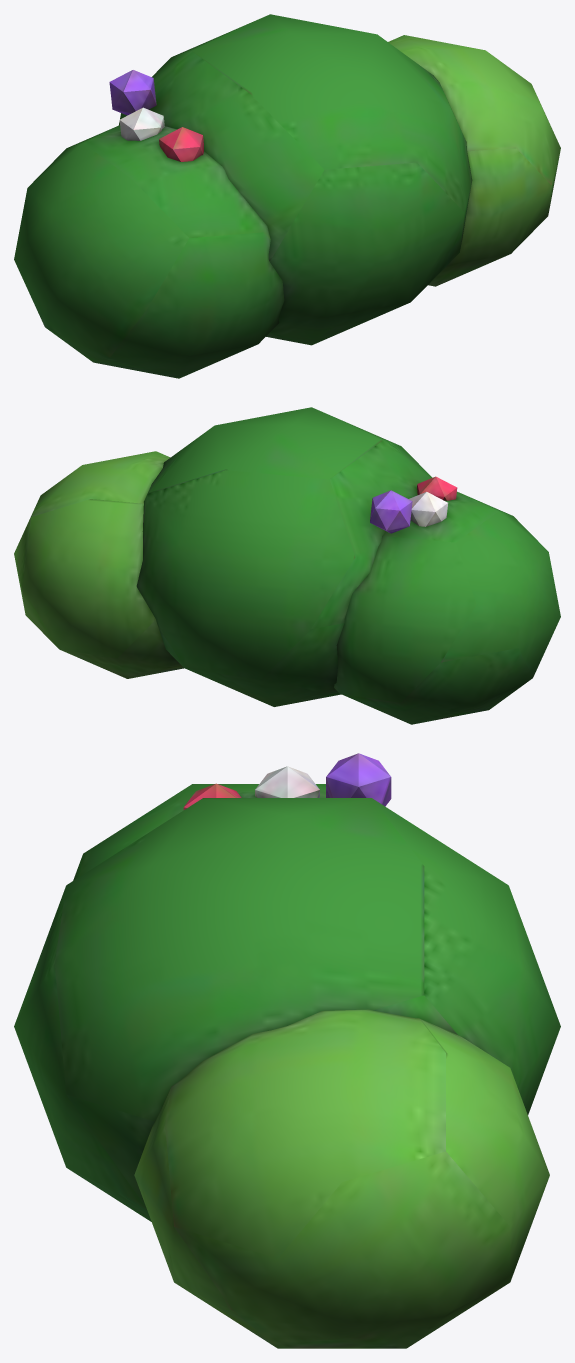
The model's file is arbusto.glb.
The picture shows the model from 3 angles, top to bottom: view 1: azimuth 30°, elevation 25°; view 2: azimuth 150°, elevation 25°; view 3: azimuth 270°, elevation 25°; orthographic projection. The views are drawn at different scales.
Visible parts, largest first — view 1: arbusto; view 2: arbusto; view 3: arbusto.
Boxes of the visible parts, bbox=[...] form: arbusto: bbox=[14, 14, 560, 378]; arbusto: bbox=[14, 407, 560, 724]; arbusto: bbox=[14, 753, 560, 1348].
Bounding box in the file's own units: 1.61 × 0.85 × 1.
Materials: 1 (1 with a texture image).
